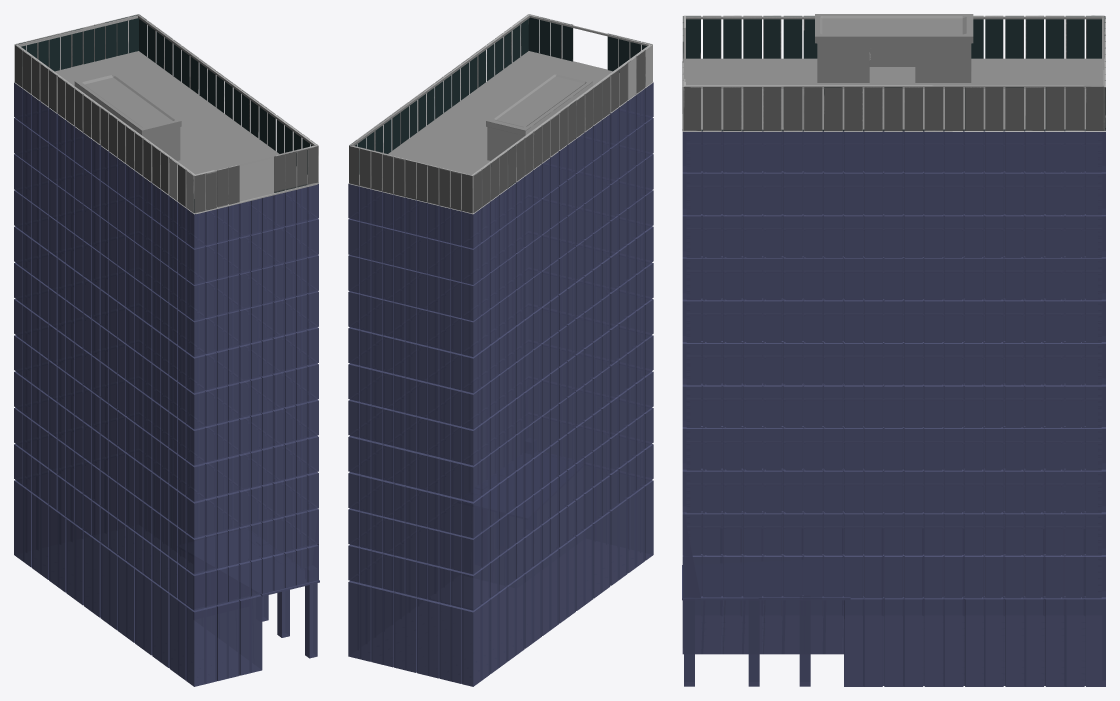
Rendered from Glass building.fbx.
The picture shows the model from 3 angles, left to right: view 1: azimuth 30°, elevation 25°; view 2: azimuth 150°, elevation 25°; view 3: azimuth 270°, elevation 25°; orthographic projection. The views are drawn at different scales.
Visible parts, largest first — view 1: Cube, Cube.001; view 2: Cube, Cube.001; view 3: Cube, Cube.001.
Boxes of the visible parts, x1=… form: Cube: x1=14, y1=82, x2=319, y2=686; Cube.001: x1=14, y1=14, x2=318, y2=214; Cube: x1=348, y1=82, x2=653, y2=686; Cube.001: x1=348, y1=14, x2=652, y2=214; Cube: x1=682, y1=131, x2=1105, y2=686; Cube.001: x1=682, y1=14, x2=1105, y2=131.
Bounding box in the file's own units: 5.02 × 19.69 × 12.52.
